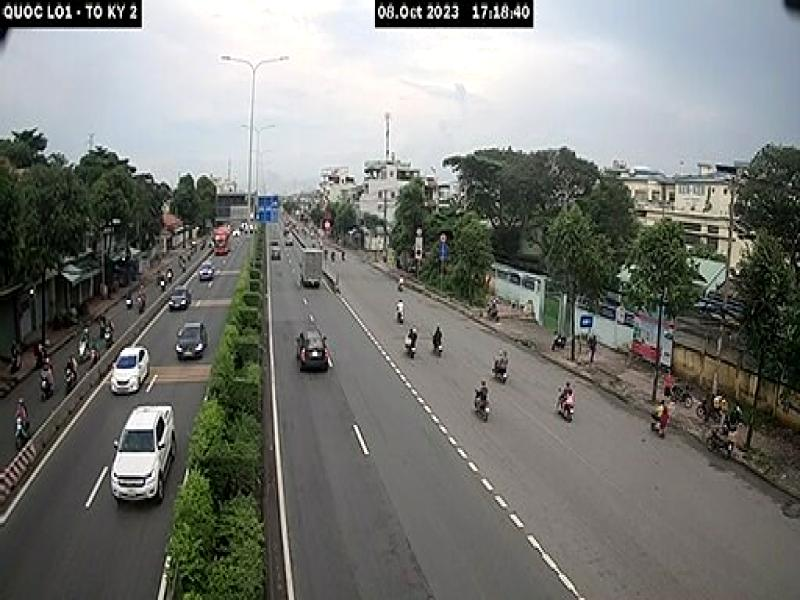car: (113, 396, 175, 510), (105, 340, 154, 403), (292, 318, 336, 377), (170, 317, 211, 360)
